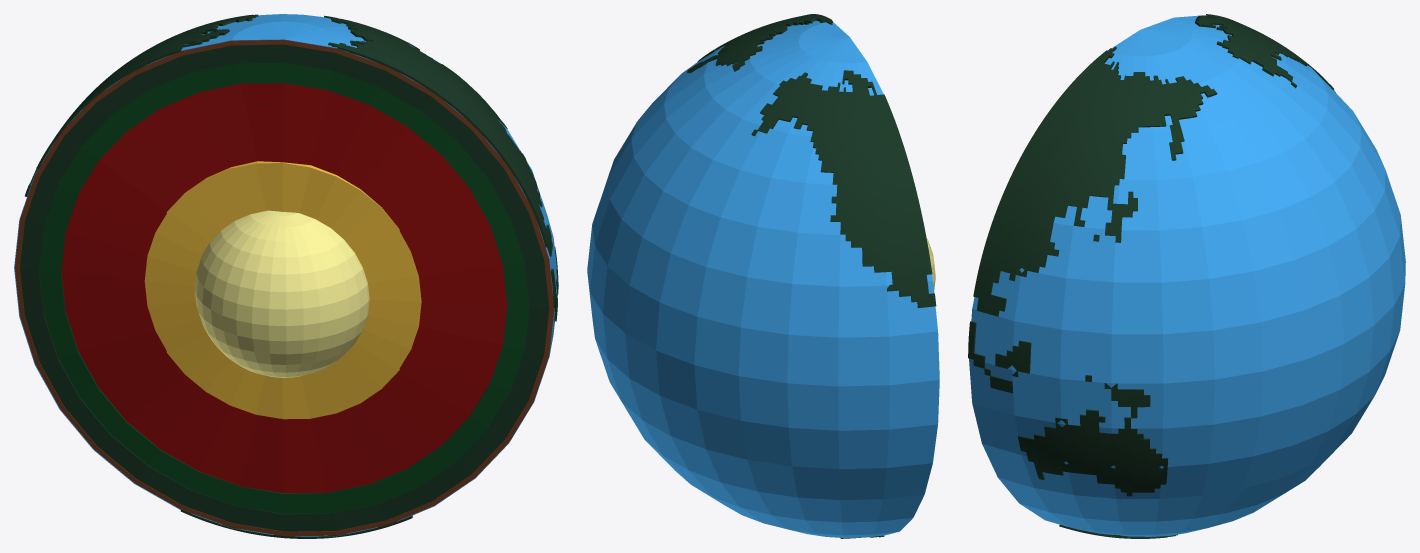
Rendered from HalfEarth.FBX.
3 views of the same model, side by side, from view 1: azimuth 30°, elevation 25°; view 2: azimuth 150°, elevation 25°; view 3: azimuth 270°, elevation 25° (orthographic). The views are drawn at different scales.
Visible parts, largest first — view 1: Sphere012, Sphere013, Sphere011, Sphere010, Sphere014, Sphere015, Sphere009, Sphere008; view 2: Sphere008, Sphere015; view 3: Sphere008, Sphere015.
Boxes of the visible parts, left/top/right/bottom form: Sphere012: left=61, top=83, right=507, bottom=493; Sphere013: left=144, top=161, right=421, bottom=419; Sphere011: left=39, top=62, right=529, bottom=513; Sphere010: left=20, top=44, right=549, bottom=531; Sphere014: left=194, top=210, right=369, bottom=377; Sphere015: left=25, top=14, right=558, bottom=538; Sphere009: left=14, top=39, right=554, bottom=536; Sphere008: left=14, top=14, right=558, bottom=536; Sphere008: left=587, top=20, right=939, bottom=537; Sphere015: left=687, top=14, right=936, bottom=538; Sphere008: left=969, top=15, right=1405, bottom=536; Sphere015: left=968, top=14, right=1335, bottom=538.
Bounding box in the file's own units: 4.29 × 4.88 × 4.
